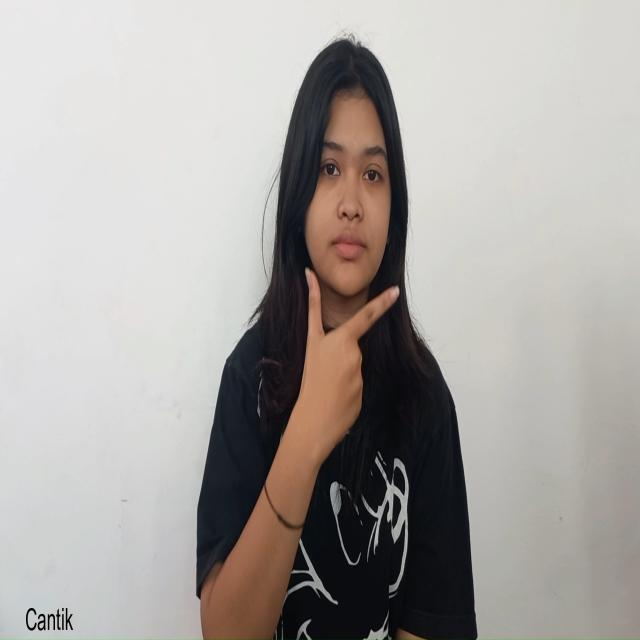Cantik -BISINDO-: (296, 265, 401, 474)
